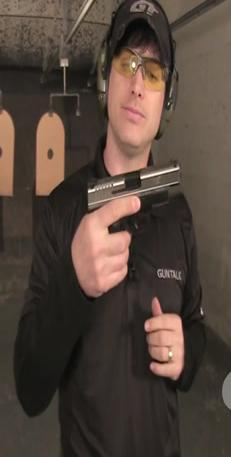pistol: (84, 158, 184, 289)
